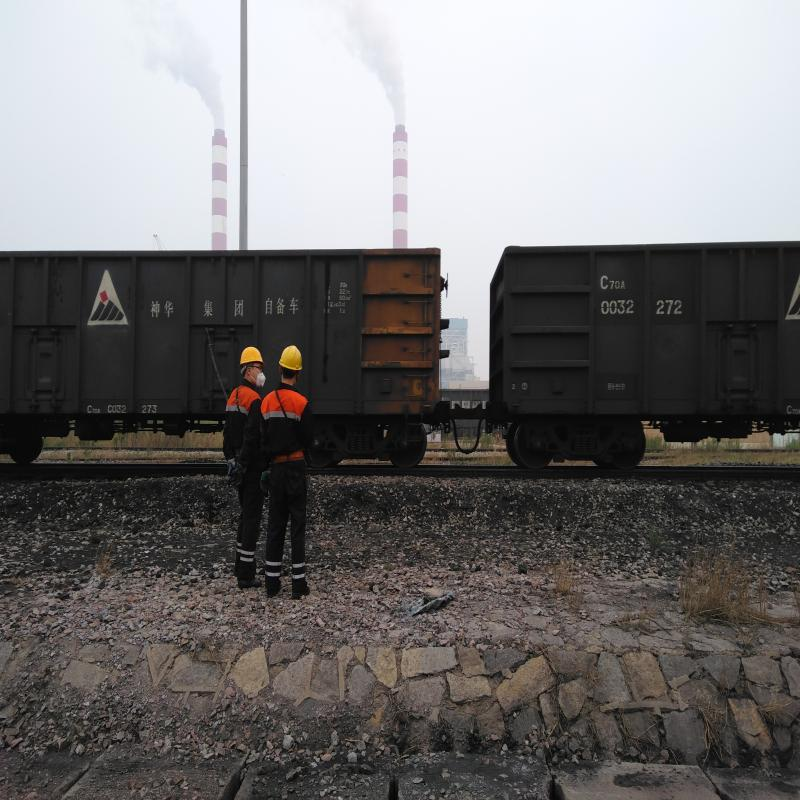train: (494, 255, 786, 466)
